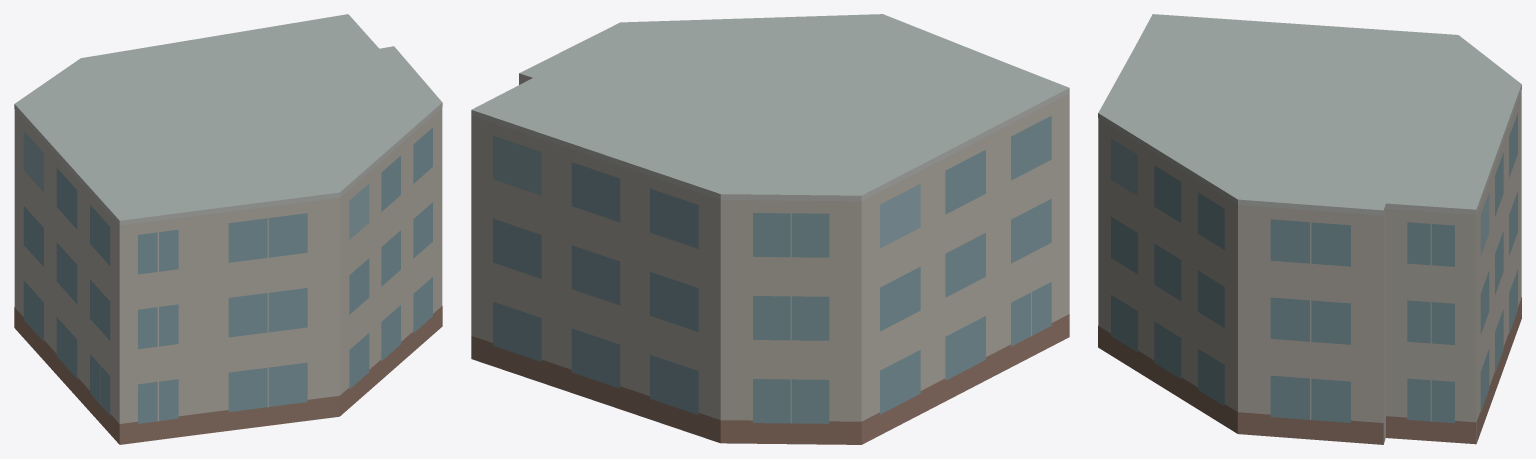
Rendered from survey-upis-32493612.glb.
3 renders of one model, left to right at view 1: azimuth 30°, elevation 25°; view 2: azimuth 150°, elevation 25°; view 3: azimuth 270°, elevation 25°, orthographic. The views are drawn at different scales.
Visible parts, largest first — view 1: survey-upis-32493612.tmp; view 2: survey-upis-32493612.tmp; view 3: survey-upis-32493612.tmp.
Part boxes in pixels (x1,y1,x2,y2): survey-upis-32493612.tmp: (14,14,442,444); survey-upis-32493612.tmp: (471,14,1069,444); survey-upis-32493612.tmp: (1098,14,1521,444).
Bounding box in the file's own units: 19.41 × 10.8 × 17.69.
